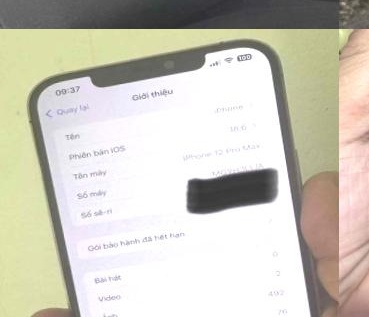screen_defect: (165, 143, 302, 236)
